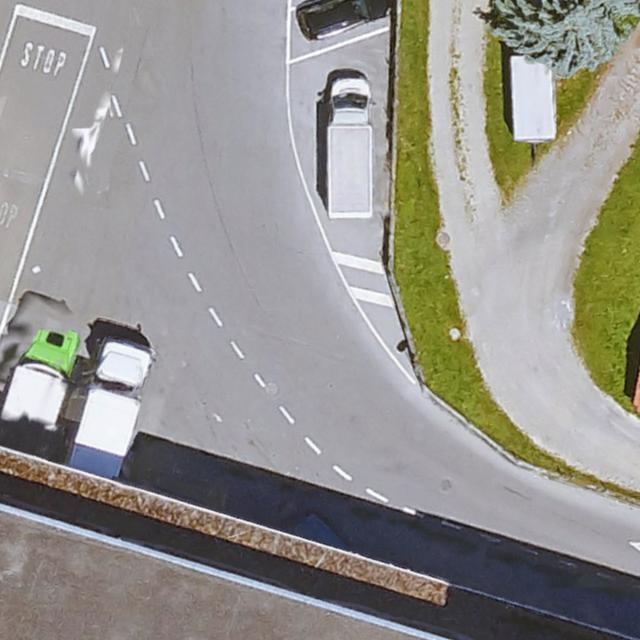tree: (492, 0, 640, 70)
